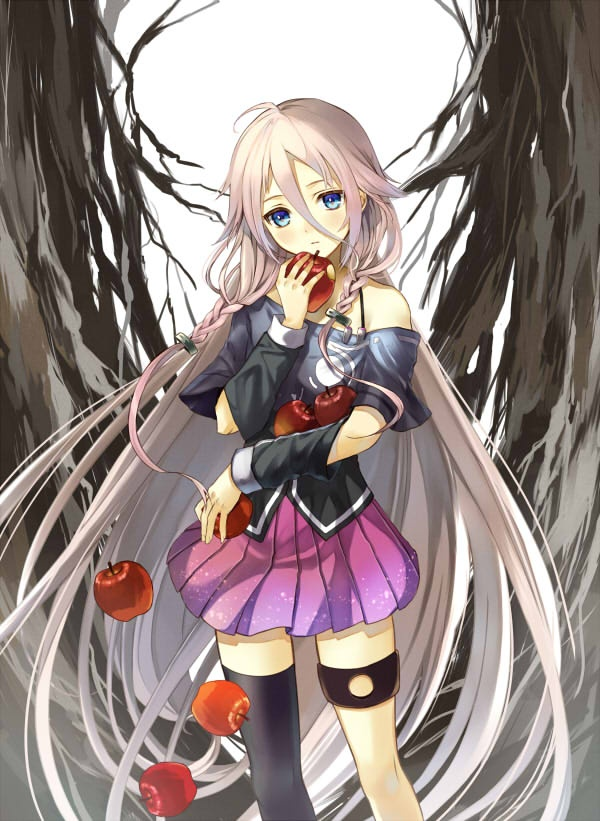纸片人正脸: (216, 94, 400, 276)
